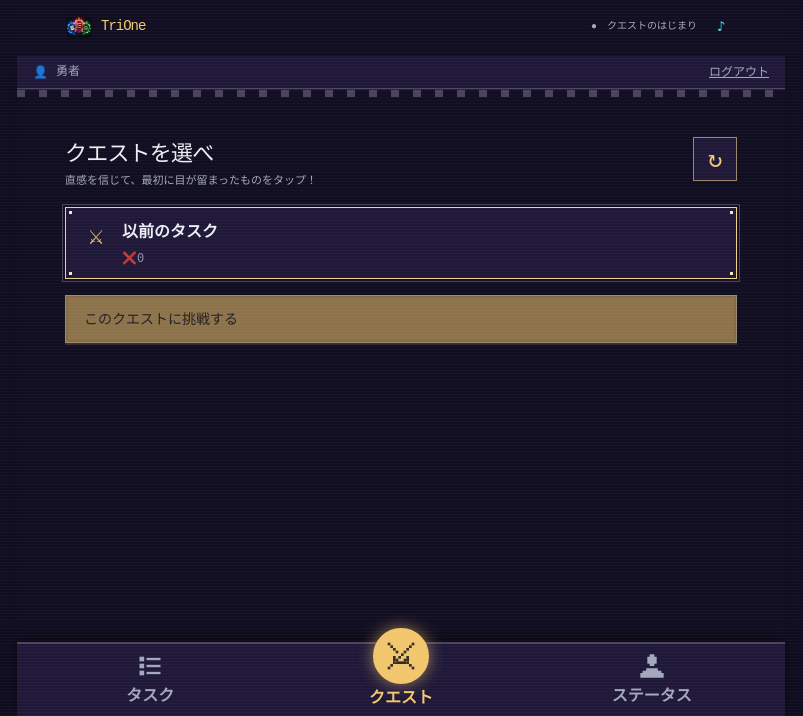
キャッシュと再開情報の有効性 › 保存応答のIDが表示と違う場合も開始を許可せず、カードの選択は維持する
The width and height of the screenshot is (803, 716).
Expected: the radio button is shown, [65, 207, 737, 279]
Click the button named "再抽選する" at [715, 159], box [693, 137, 737, 181]
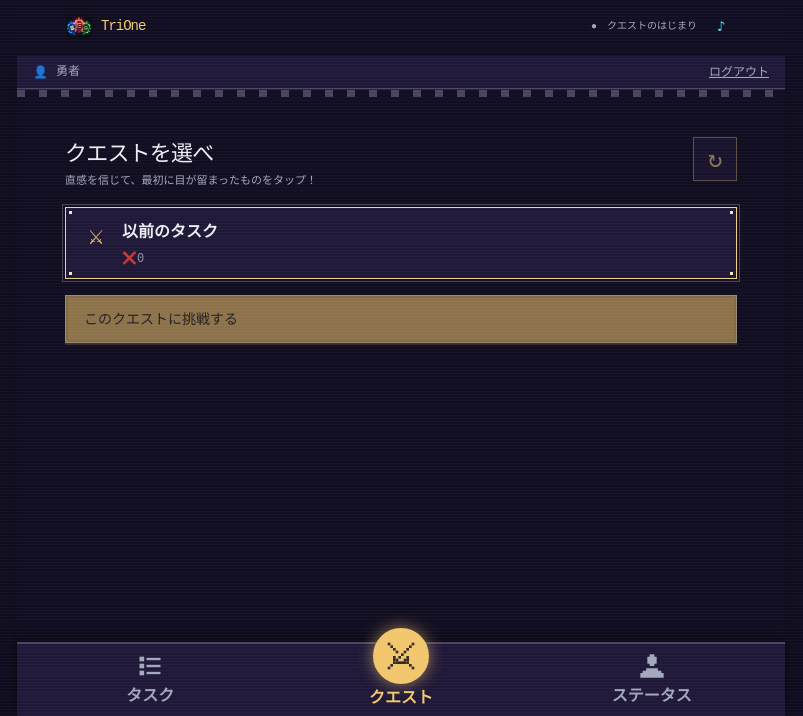
Click the radio button at [170, 231], box [65, 207, 737, 279]
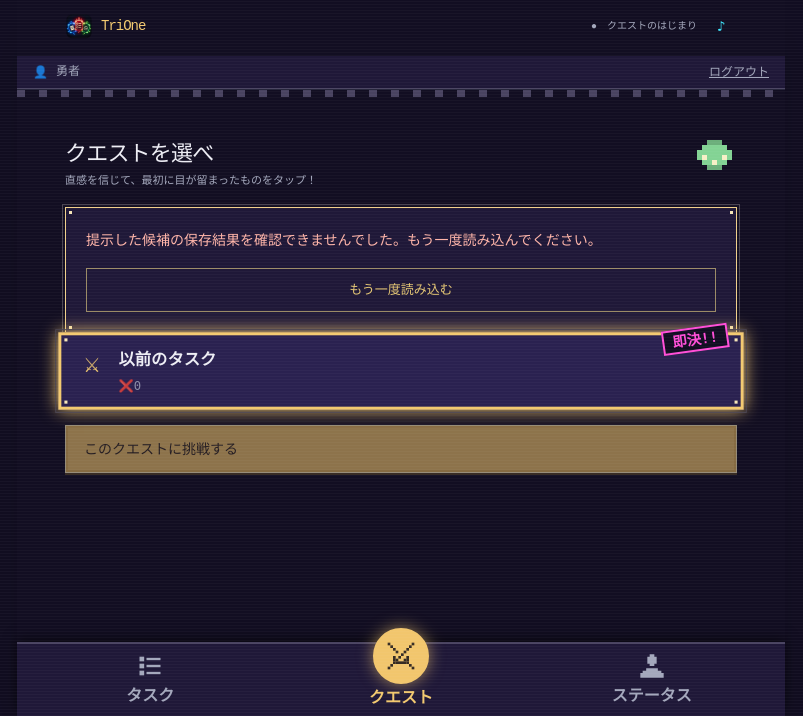
Expected: the button "このクエストに挑戦する" is disabled, [65, 425, 737, 473]
Result: the message shows "保存結果を確認できませんでした" at [86, 232, 602, 248]
